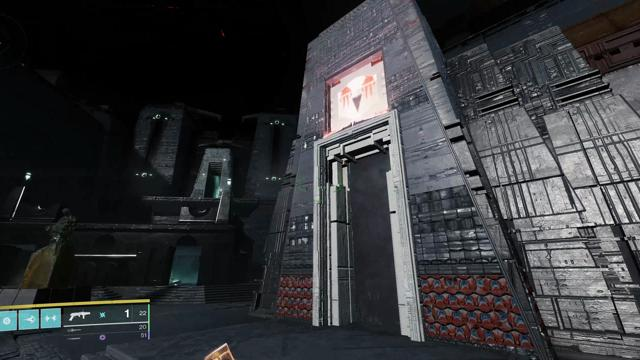give: (337, 73, 379, 120)
